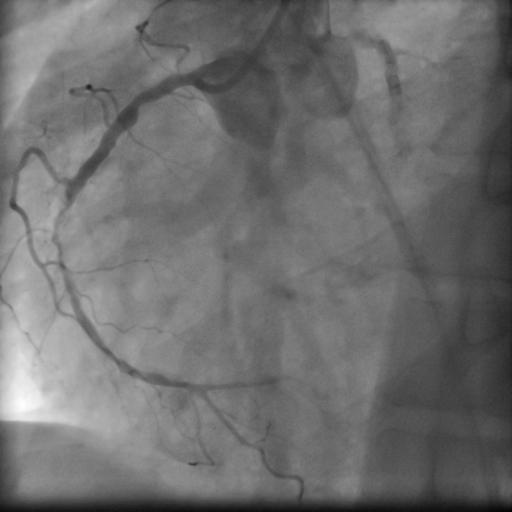Stenosis: (131, 85, 151, 111)
